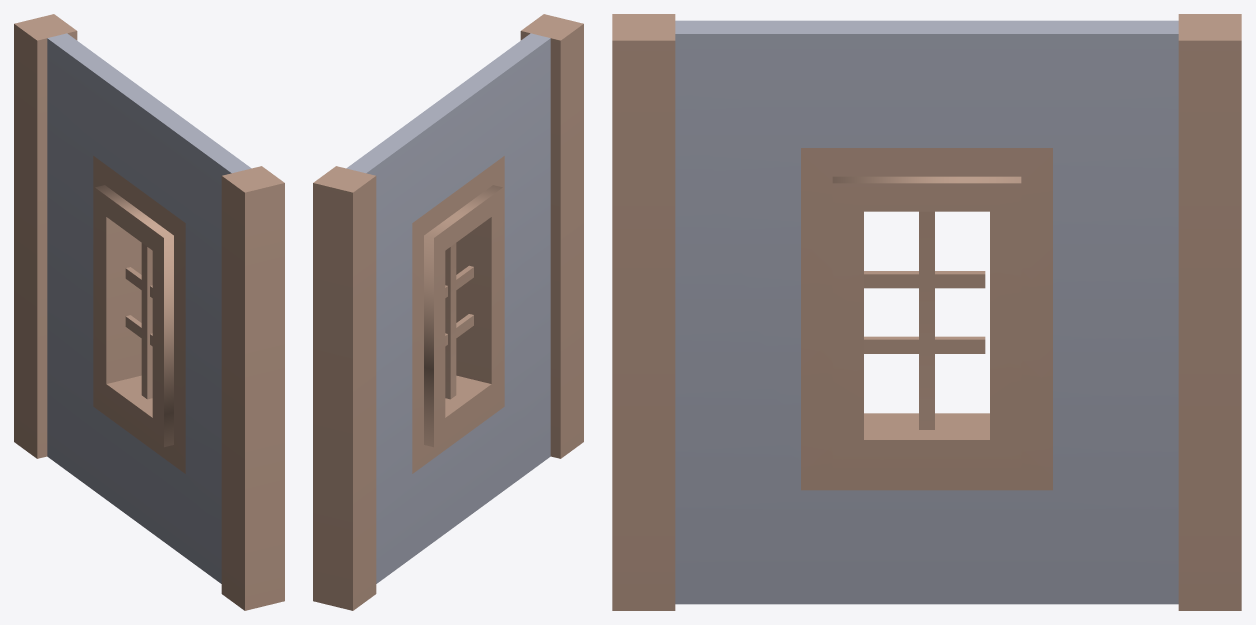
The model's file is wall-window-glass.glb.
3 renders of one model, left to right at view 1: azimuth 30°, elevation 25°; view 2: azimuth 150°, elevation 25°; view 3: azimuth 270°, elevation 25°, orthographic. The views are drawn at different scales.
Visible parts, largest first — view 1: wall-window-glass; view 2: wall-window-glass; view 3: wall-window-glass.
Boxes of the visible parts, x1=… form: wall-window-glass: x1=14, y1=14, x2=284, y2=610; wall-window-glass: x1=313, y1=14, x2=583, y2=610; wall-window-glass: x1=612, y1=14, x2=1241, y2=610.
Bounding box in the file's own units: 0.1 × 1 × 1.
